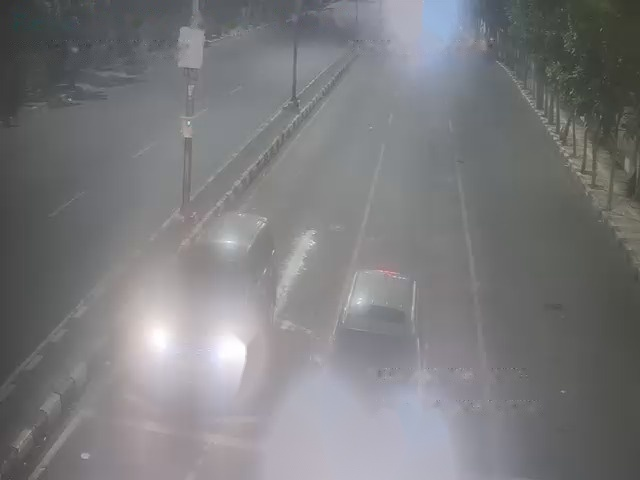Mobil: (322, 268, 433, 454), (170, 208, 280, 391)
